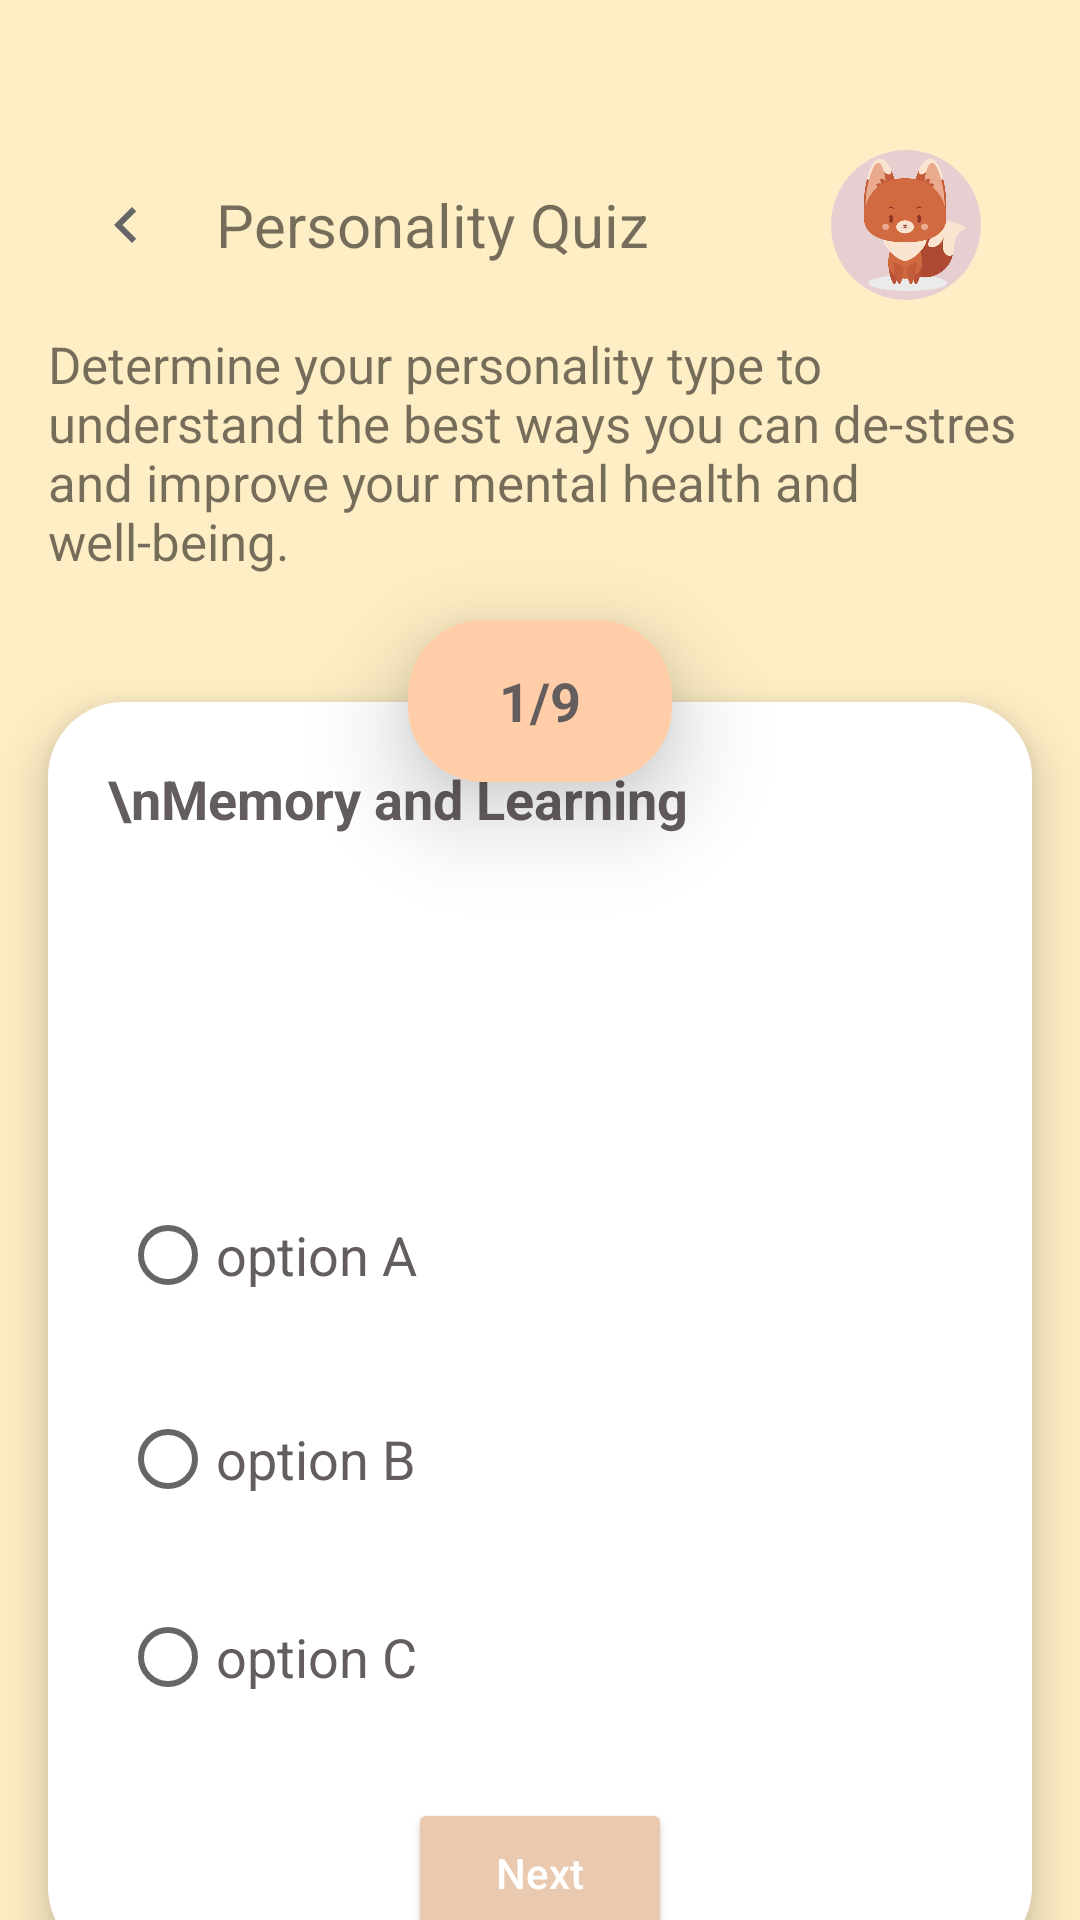

Locate icon controls on the screen. Image size 1080x1920, boxes as (x1, y1, x2, y2).
fox: (840, 150, 981, 300)
left: (114, 207, 136, 243)
